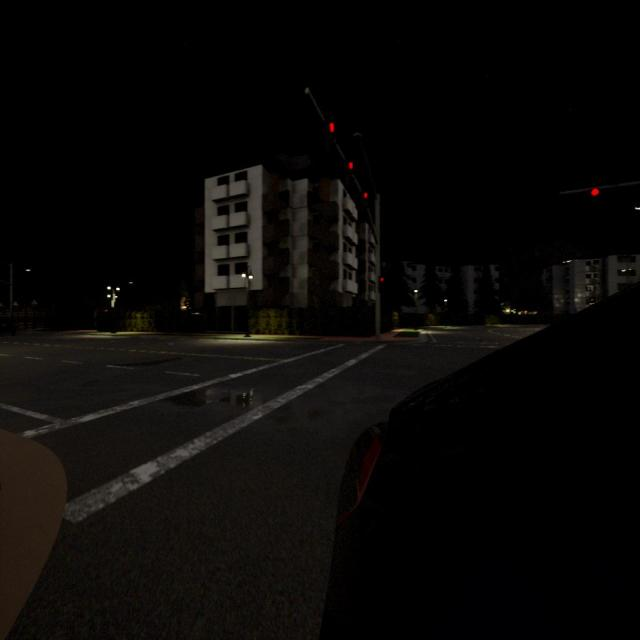Vehicle: (321, 285, 640, 640)
traffic_light: (378, 276, 384, 288), (591, 188, 599, 196), (330, 122, 334, 134), (349, 162, 353, 170), (363, 192, 368, 198)
